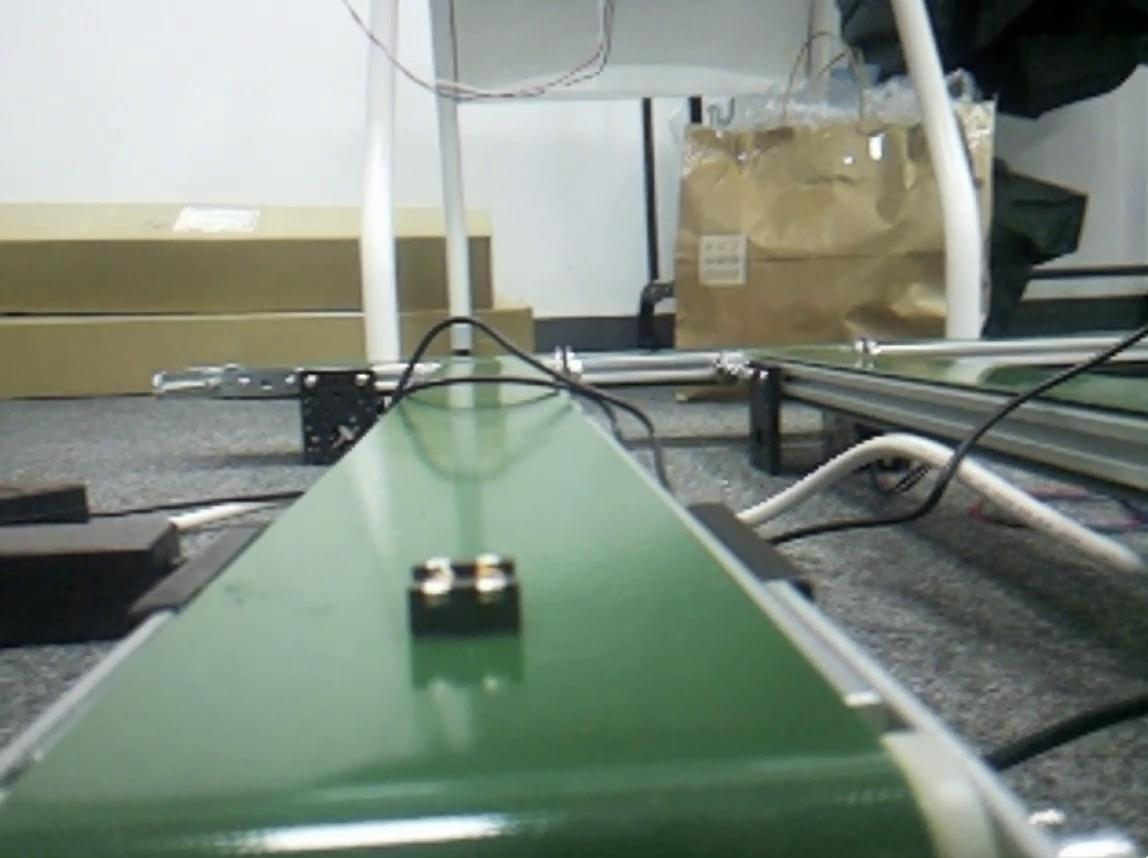inductor: (410, 555, 521, 638)
